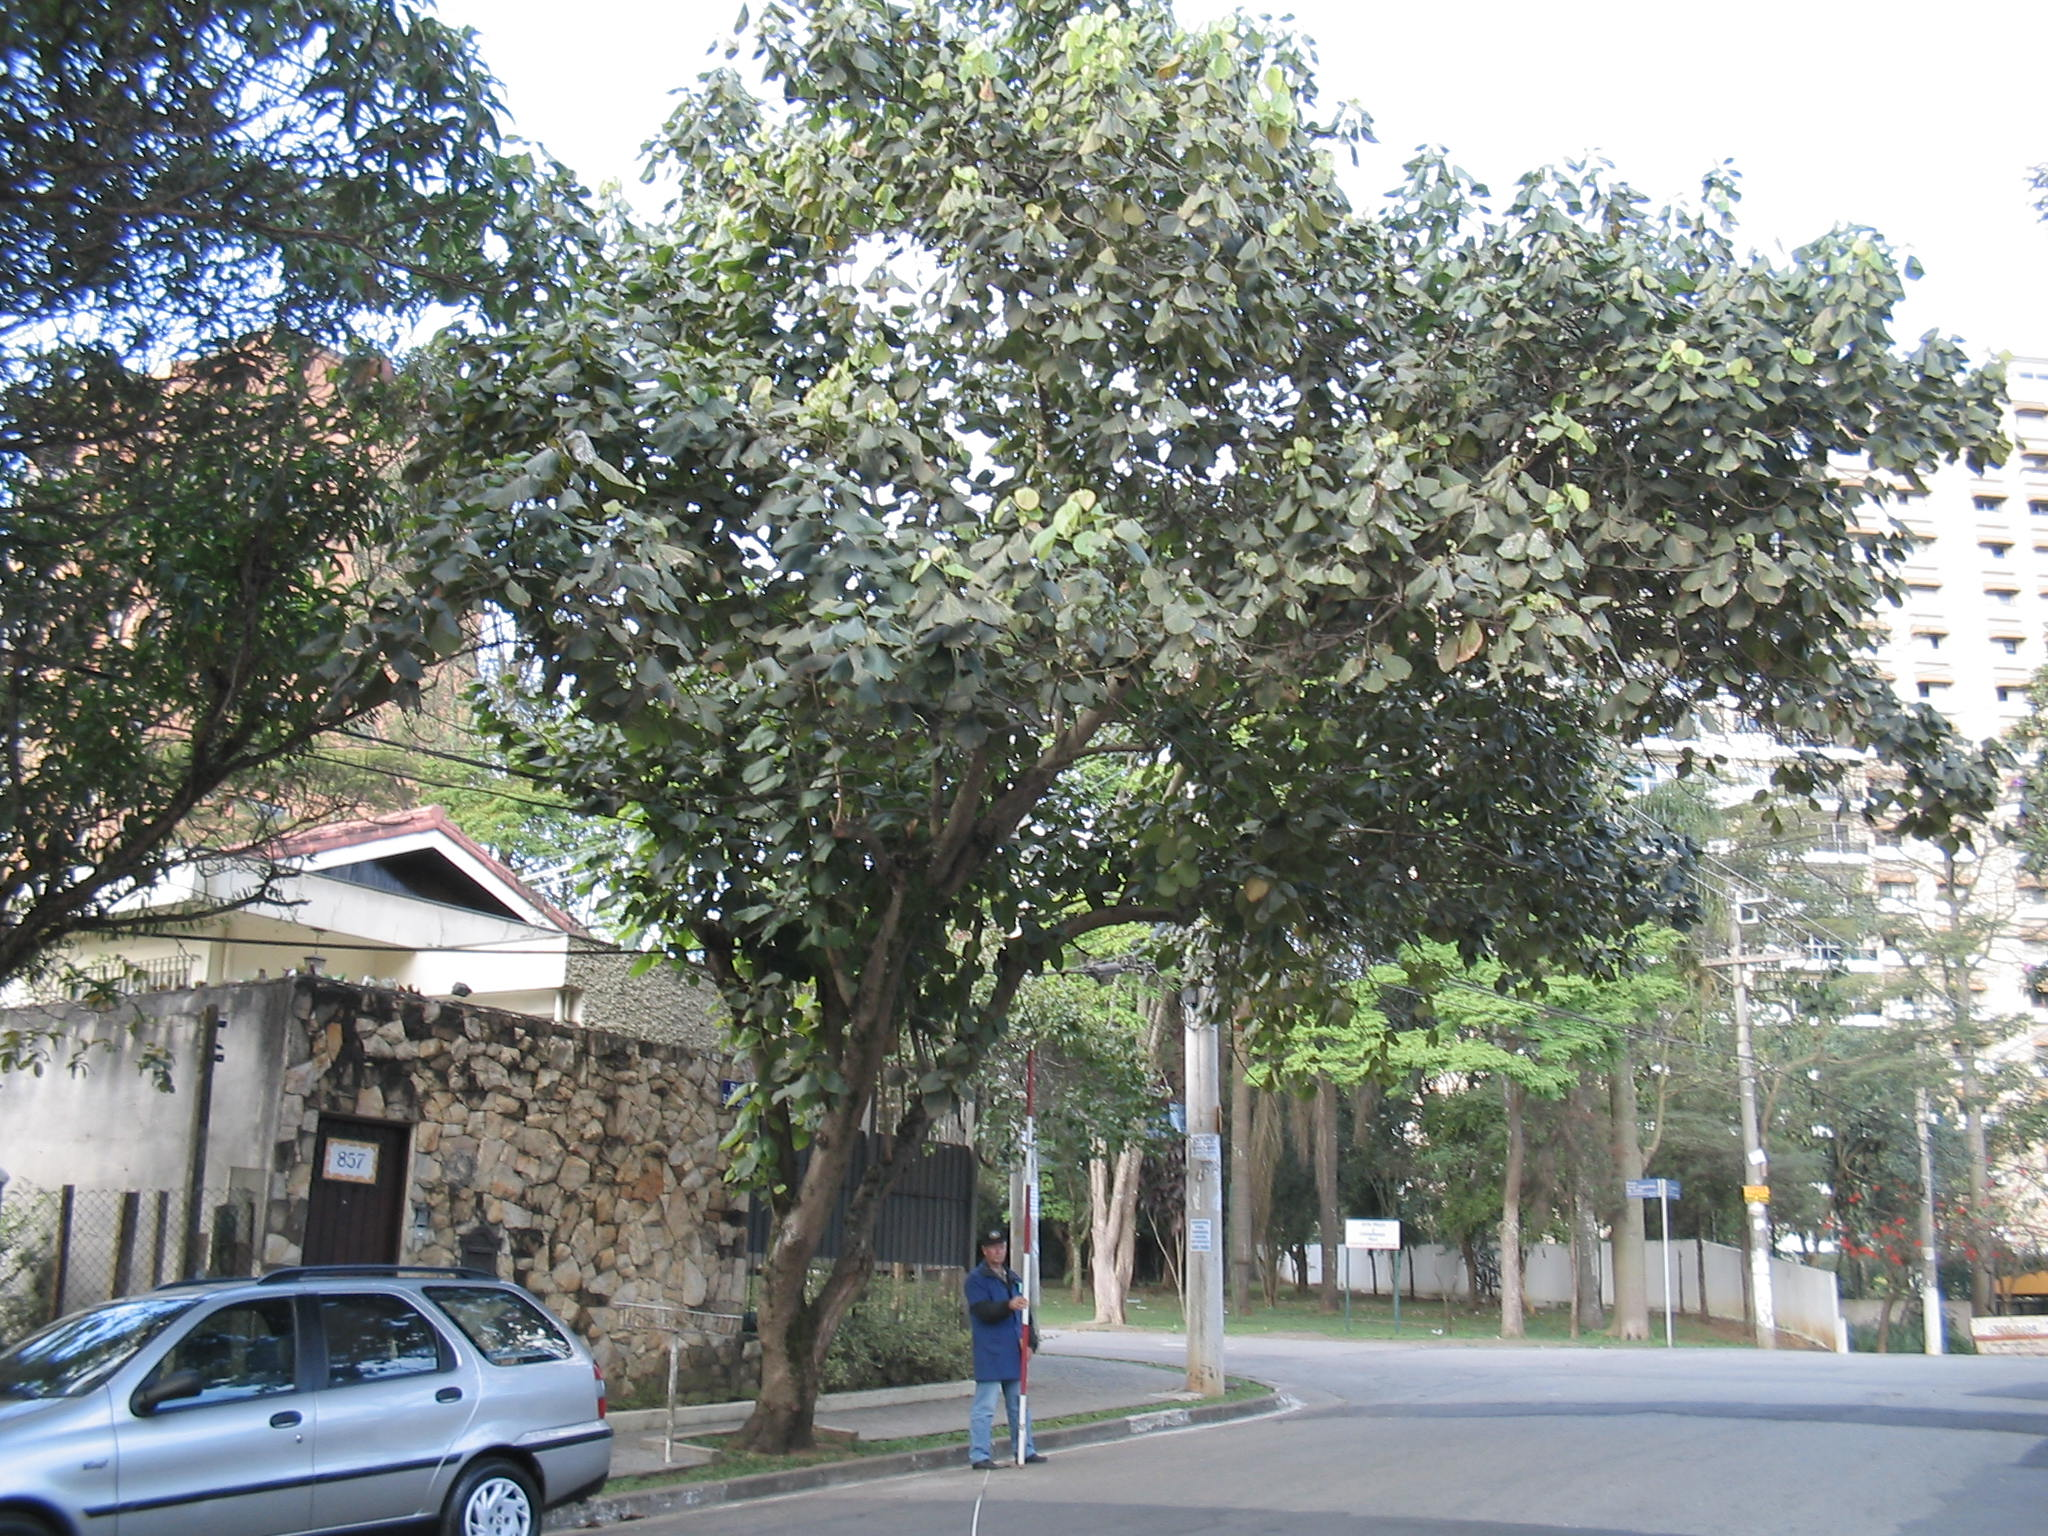crown: (368, 6, 2006, 1013)
stem: (739, 1284, 863, 1452)
stick: (1014, 1046, 1047, 1462)
tree: (361, 3, 2013, 1452)
